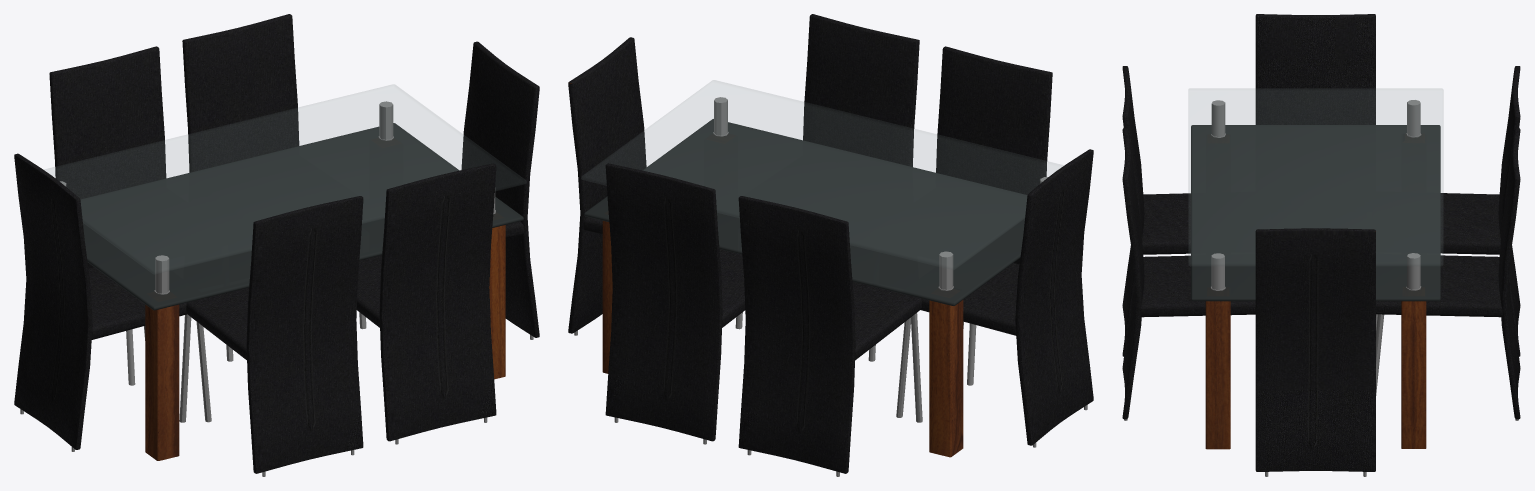
The model's file is Six_Seater_Dining_Table_07.fbx.
3 renders of one model, left to right at view 1: azimuth 30°, elevation 25°; view 2: azimuth 150°, elevation 25°; view 3: azimuth 270°, elevation 25°, orthographic. The views are drawn at different scales.
Parts seen in each view (by area): view 1: Cube.001; view 2: Cube.001; view 3: Cube.001.
Boxes of the visible parts, x1,y1,x2,y2 form: Cube.001: [14, 14, 539, 476]; Cube.001: [568, 14, 1093, 476]; Cube.001: [1122, 14, 1520, 476].
Size of the model in its own units: 185 by 97.57 by 143.
5 materials, 1 textured.
